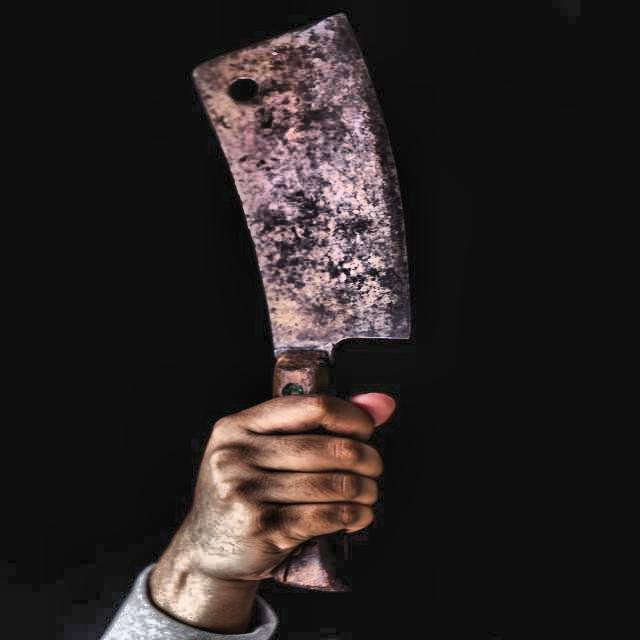knife: (176, 14, 422, 592)
